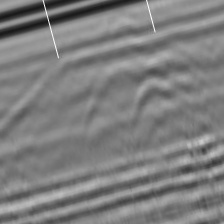Utility: (132, 61, 204, 118)
